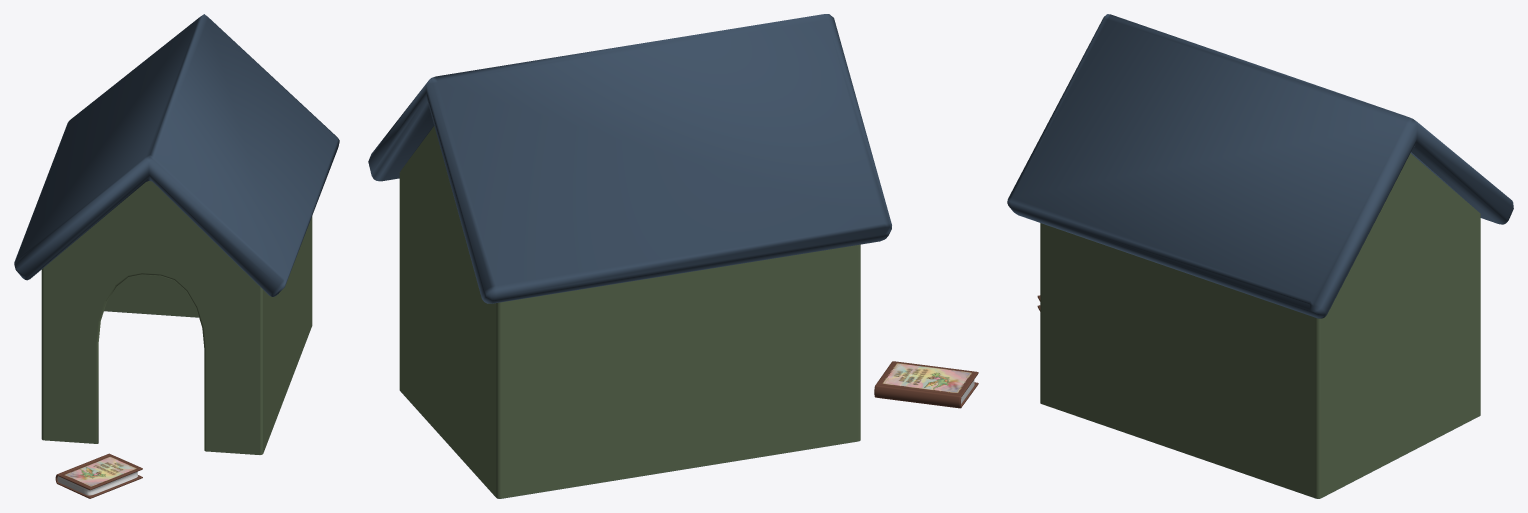
The model's file is LittleHouseWithBook.fbx.
The picture shows the model from 3 angles, left to right: view 1: azimuth 30°, elevation 25°; view 2: azimuth 150°, elevation 25°; view 3: azimuth 270°, elevation 25°; orthographic projection. The views are drawn at different scales.
Visible parts, largest first — view 1: Cube.001, Book; view 2: Cube.001, Book; view 3: Cube.001.
Part boxes in pixels (box(x1,y1,x2,y2)): Cube.001: box(14, 14, 339, 454); Book: box(55, 453, 142, 498); Cube.001: box(368, 14, 891, 498); Book: box(874, 361, 978, 408); Cube.001: box(1007, 14, 1513, 498).
Bounding box in the file's own units: 201 × 151 × 201.
